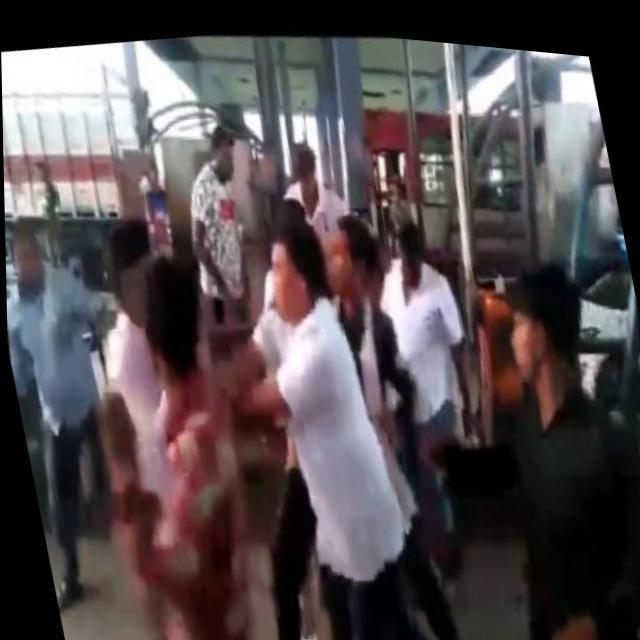fight: (44, 160, 423, 628)
